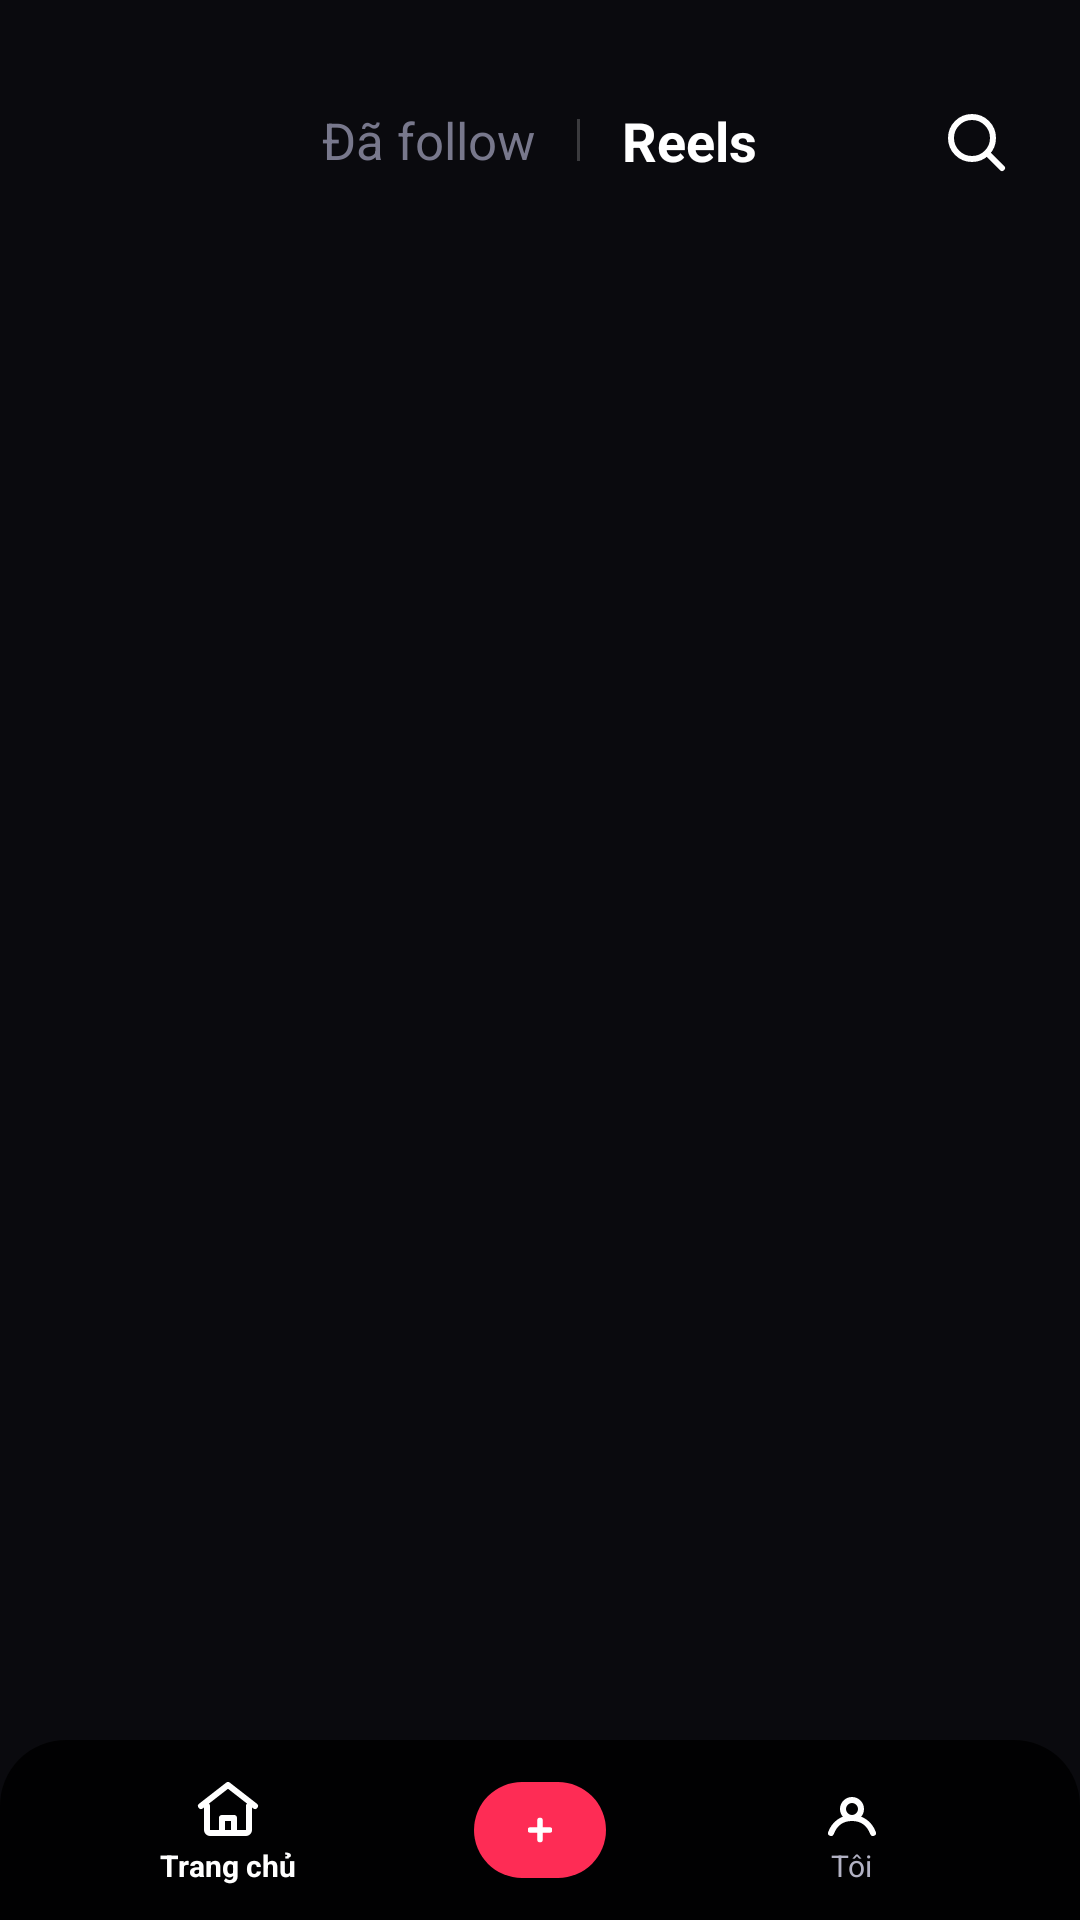

Icons on this 1080*1920 Android screen, each with the point to tap as point (x, y):
add: point (540, 1830)
person: point (852, 1816)
search: point (976, 142)
